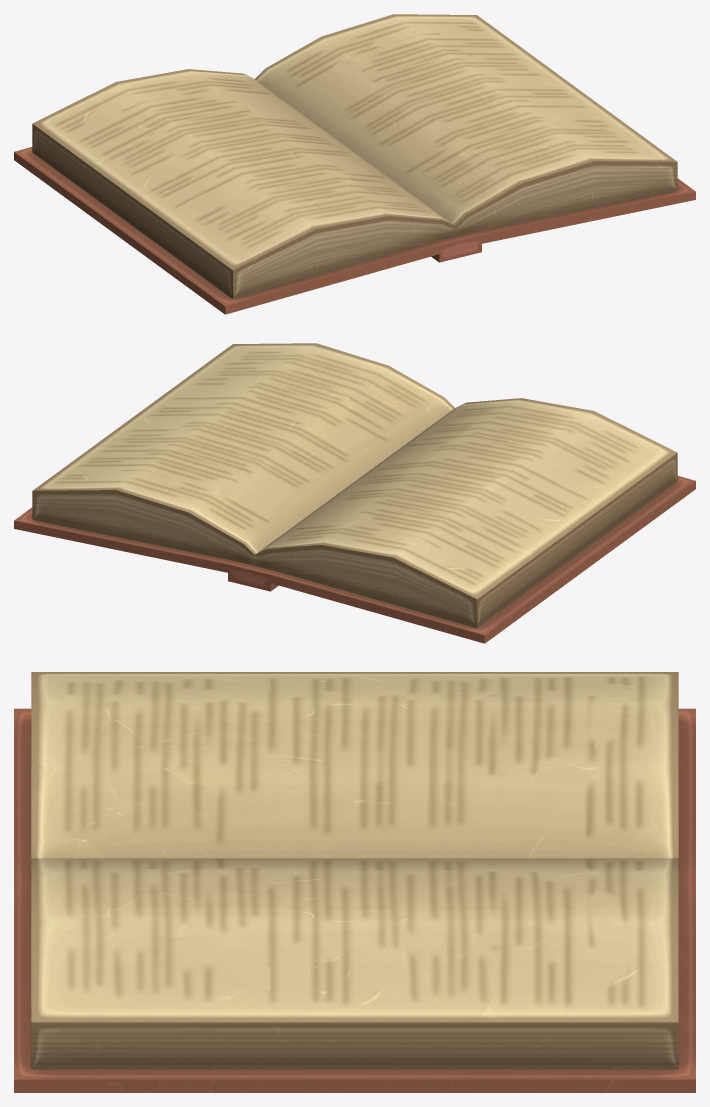
File: Book 1.obj
3 renders of one model, top to bottom at view 1: azimuth 30°, elevation 25°; view 2: azimuth 150°, elevation 25°; view 3: azimuth 270°, elevation 25°, orthographic. The views are drawn at different scales.
Parts seen in each view (by area): view 1: Book_1; view 2: Book_1; view 3: Book_1.
Boxes of the visible parts, box(x1,y1,x2,y2) form: Book_1: box(14, 14, 695, 314); Book_1: box(14, 343, 695, 643); Book_1: box(14, 672, 695, 1092).
Bounding box in the file's own units: 3.58 × 0.4262 × 2.78.
